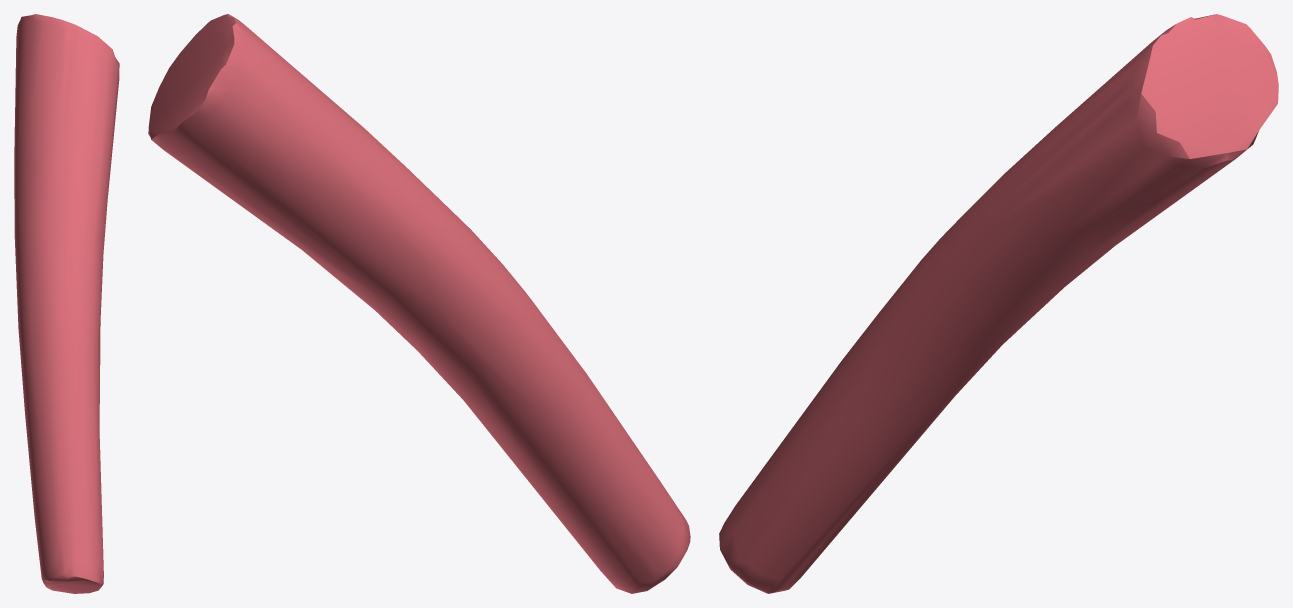
File: fma68677_fj2981.glb
The picture shows the model from 3 angles, left to right: view 1: azimuth 30°, elevation 25°; view 2: azimuth 150°, elevation 25°; view 3: azimuth 270°, elevation 25°; orthographic projection. The views are drawn at different scales.
Parts seen in each view (by area): view 1: FMA68677_FJ2981; view 2: FMA68677_FJ2981; view 3: FMA68677_FJ2981.
Part boxes in pixels (left/top/right/bottom): FMA68677_FJ2981: left=14, top=14, right=119, bottom=593; FMA68677_FJ2981: left=148, top=14, right=690, bottom=593; FMA68677_FJ2981: left=719, top=14, right=1278, bottom=593.
Bounding box in the file's own units: 0.00696 × 0.0143 × 0.011.
